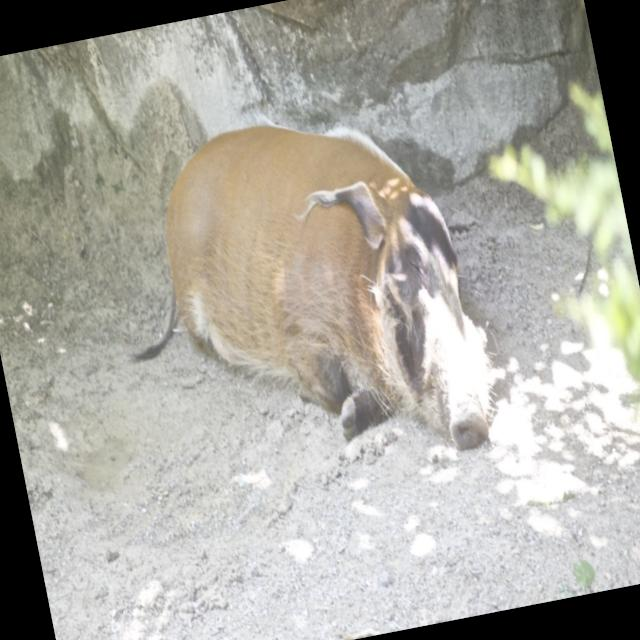pig: (132, 127, 493, 454)
